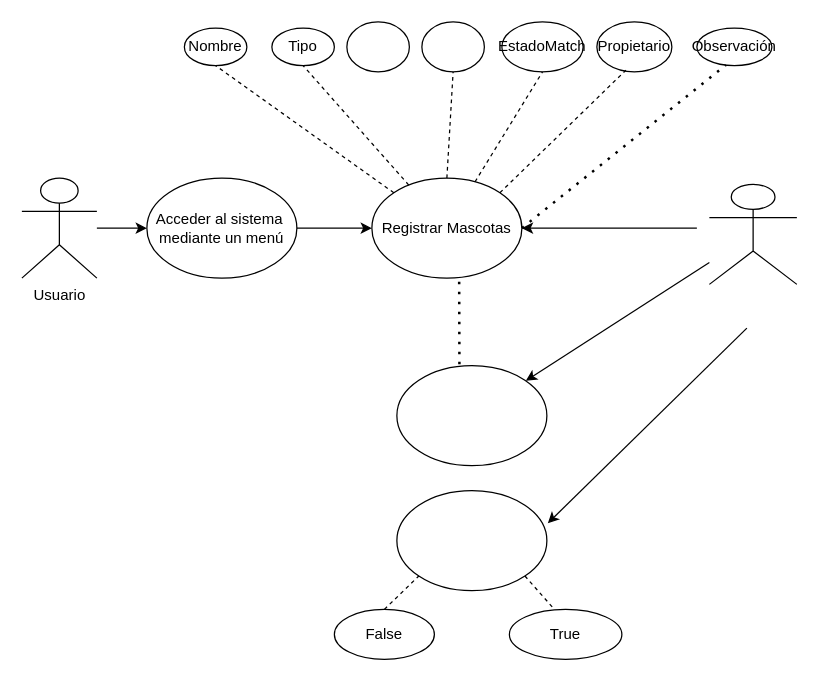
Image size: 819x681. Some labels were removed from this diagram. The shapes that lost their labels are listed below. From the top down, each one's centre as x and y in pixels, then its label:
At pixel 377 46: "Raza".
At pixel 452 46: "Edad".
At pixel 752 233: "Sistema".
At pixel 471 415: "Presenta lista de mascotas".
At pixel 471 540: "Permite al usuario: Crear match".
